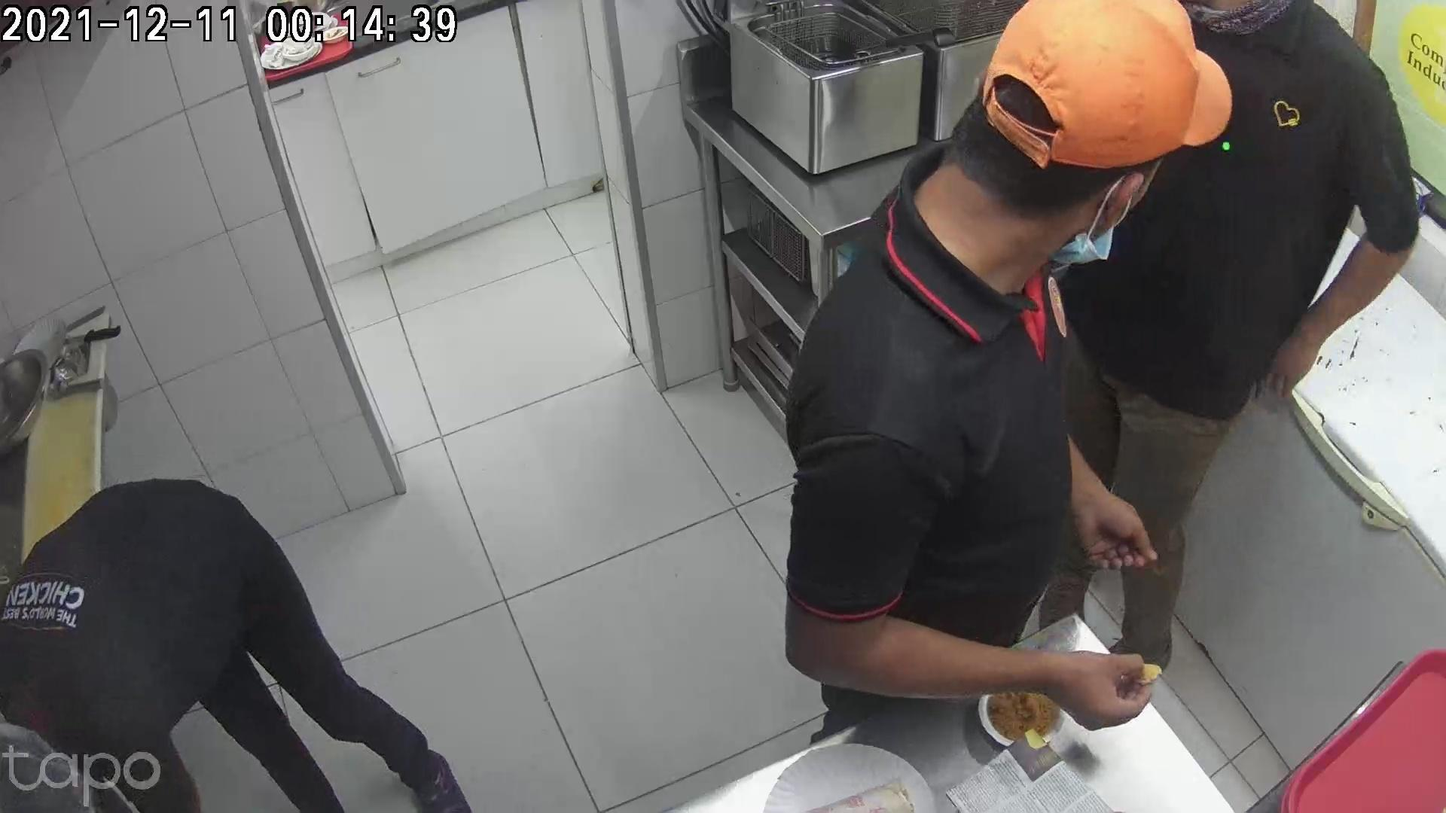gloves: (850, 606, 940, 743)
no_gloves: (1029, 591, 1112, 711)
